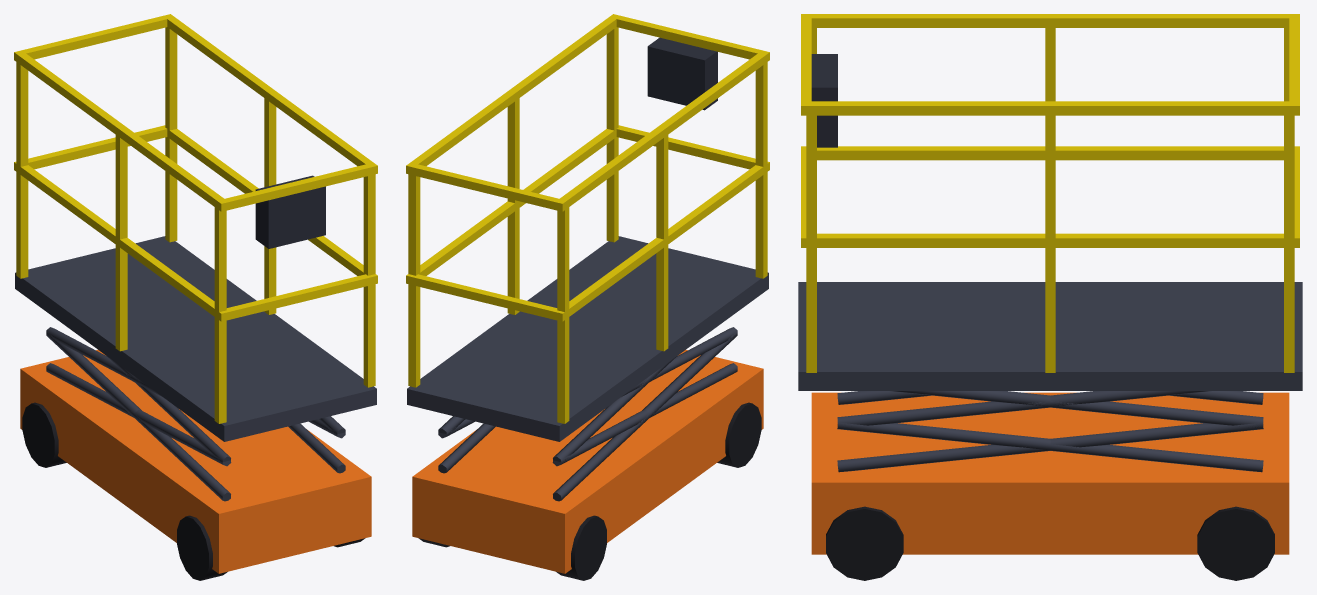
The model's file is trk-013.glb.
3 views of the same model, side by side, from view 1: azimuth 30°, elevation 25°; view 2: azimuth 150°, elevation 25°; view 3: azimuth 270°, elevation 25° (orthographic). The views are drawn at different scales.
Visible parts, largest first — view 1: dark_steel, hi_vis, hi_vis_orange, rubber, plastic_dark; view 2: dark_steel, hi_vis, hi_vis_orange, plastic_dark, rubber; view 3: dark_steel, hi_vis_orange, hi_vis, rubber, plastic_dark.
Boxes of the visible parts, x1,y1,x2,y2 form: dark_steel: (15, 236, 376, 501); hi_vis: (14, 14, 377, 423); hi_vis_orange: (20, 350, 371, 573); rubber: (22, 402, 365, 580); plastic_dark: (255, 175, 325, 248); dark_steel: (407, 236, 768, 501); hi_vis: (406, 14, 769, 423); hi_vis_orange: (412, 350, 763, 573); plastic_dark: (647, 37, 717, 110); rubber: (418, 402, 761, 580); dark_steel: (798, 282, 1302, 472); hi_vis_orange: (811, 392, 1289, 554); hi_vis: (801, 14, 1299, 372); rubber: (826, 506, 1274, 580); plastic_dark: (811, 54, 837, 147).
Bounding box in the file's own units: 0.84 × 1.97 × 1.9.
